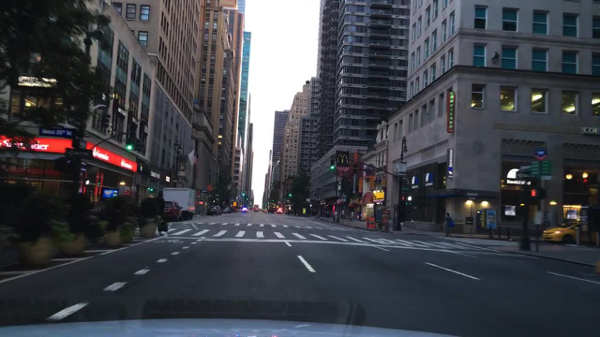car: (541, 220, 597, 244), (162, 199, 182, 223), (206, 204, 222, 216), (220, 204, 232, 213), (229, 204, 240, 213), (240, 206, 248, 213), (276, 208, 285, 213), (252, 207, 259, 213)
person: (154, 188, 168, 236), (442, 211, 455, 239), (542, 217, 551, 229), (349, 208, 355, 223), (332, 209, 337, 221), (324, 209, 330, 219)
traffic light: (529, 188, 545, 198), (102, 110, 110, 128), (126, 135, 133, 150), (135, 138, 142, 152), (329, 158, 335, 169), (406, 195, 413, 203), (399, 195, 405, 202), (84, 178, 89, 186), (287, 192, 291, 198), (242, 191, 244, 197)
traffic sign: (64, 148, 94, 158), (541, 161, 552, 181), (514, 171, 535, 181), (533, 147, 545, 160), (530, 163, 541, 176), (518, 162, 530, 171), (76, 138, 87, 147), (395, 163, 406, 171), (395, 172, 407, 177), (400, 186, 410, 191), (172, 176, 179, 183)
truck: (162, 187, 196, 220), (266, 204, 276, 215)
